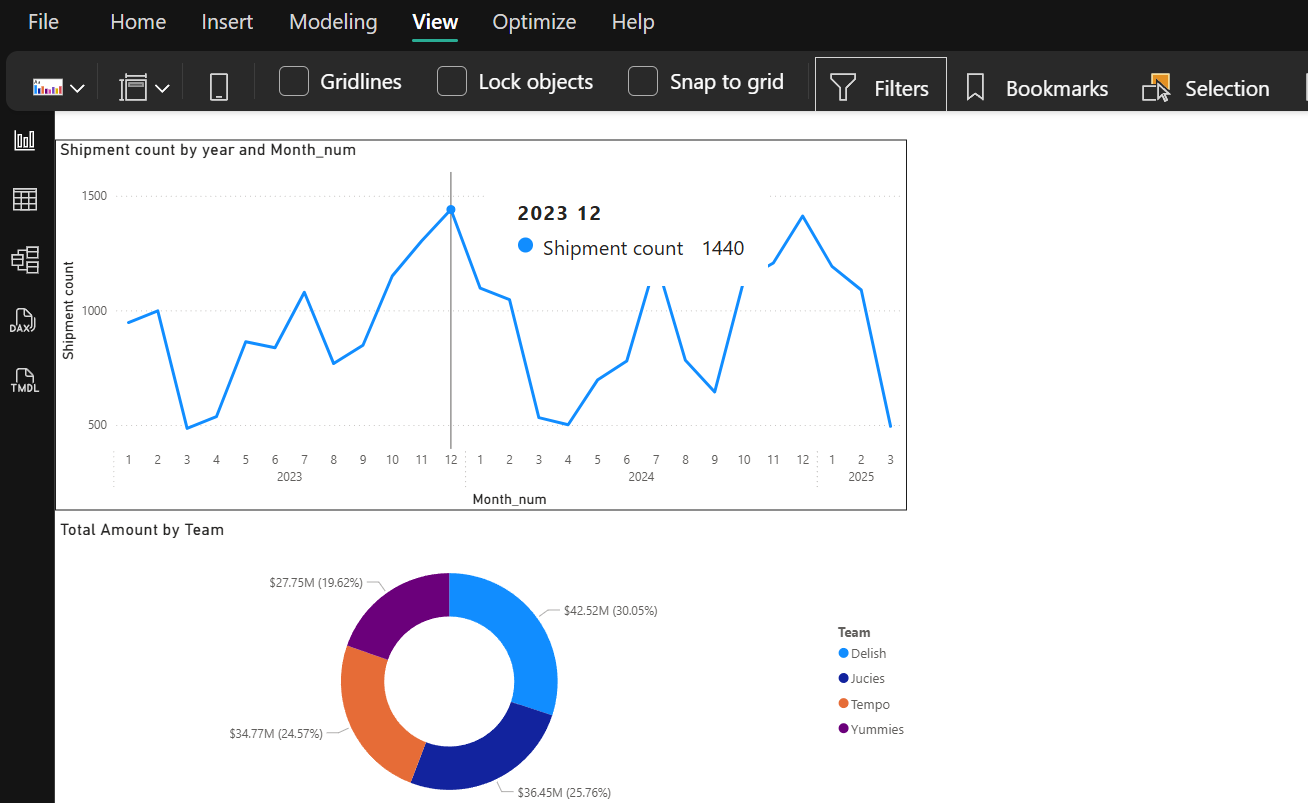

Layout of this report page (visuals, bound fields, positions):
{"tool":"powerbi","page":{"name":"Shipment count","canvas":[1280,720],"ordinal":3},"visuals":[{"type":"lineChart","fields":{"Y":["shipments.Shipment count"],"Category":["calendar.year","calendar.Month_num"]},"box":[0,28.3,860,375],"z":0},{"type":"donutChart","fields":{"Category":["people.Team"],"Y":["shipments.Total Amount"]},"box":[0,412.5,871.3,308.1],"z":1000}]}

Visuals, with their boxes on the page's 1280x720 design canvas (x1, y1, x2, y2). These are canvas units, not pixel positions in the 1308x803 screenshot, which may show the page scaled, cropped or inside an application window:
lineChart - shipments.Shipment count x calendar.year: (x1=0, y1=28, x2=860, y2=403)
donutChart - people.Team x shipments.Total Amount: (x1=0, y1=412, x2=871, y2=721)
